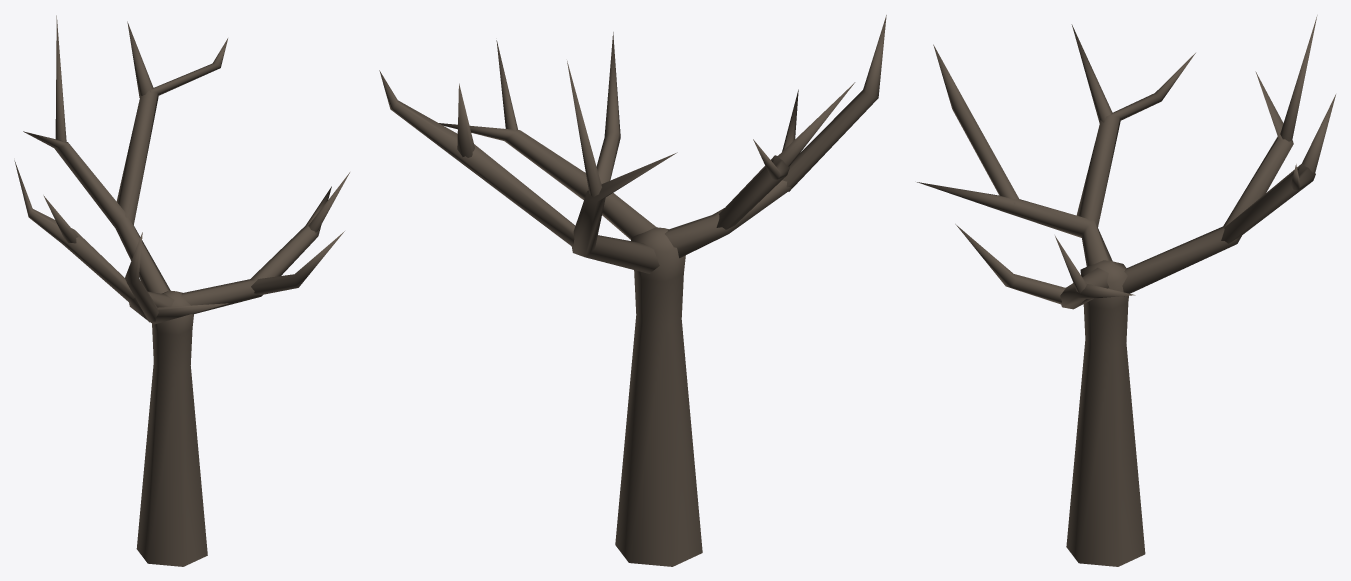
Rendered from RW_HG_Environment_Tree_Dead.001.fbx.
3 renders of one model, left to right at view 1: azimuth 30°, elevation 25°; view 2: azimuth 150°, elevation 25°; view 3: azimuth 270°, elevation 25°, orthographic. The views are drawn at different scales.
Parts seen in each view (by area): view 1: RW_HG_Environment_Tree_Dead.001; view 2: RW_HG_Environment_Tree_Dead.001; view 3: RW_HG_Environment_Tree_Dead.001.
Part boxes in pixels (x1,y1,x2,y2): RW_HG_Environment_Tree_Dead.001: (14,15,349,566); RW_HG_Environment_Tree_Dead.001: (379,15,886,566); RW_HG_Environment_Tree_Dead.001: (917,15,1335,566).
Size of the model in its own units: 0.8338 by 1.19 by 0.8603.
